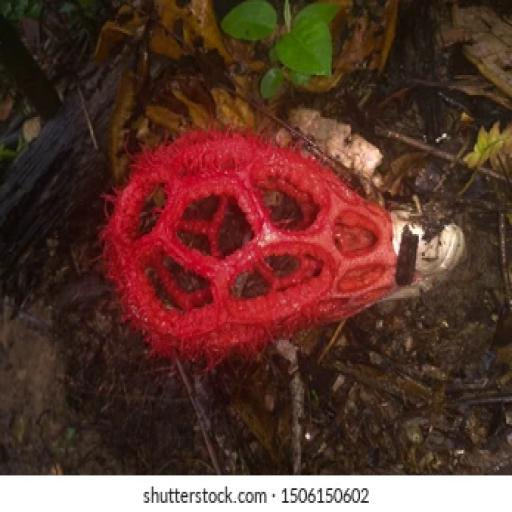Red Cage Fungus: (103, 124, 466, 350)
